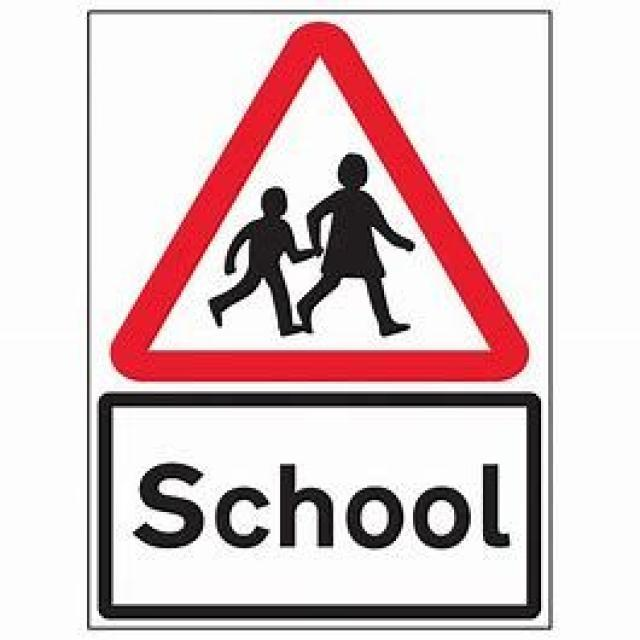school ahead: (102, 16, 540, 390)
